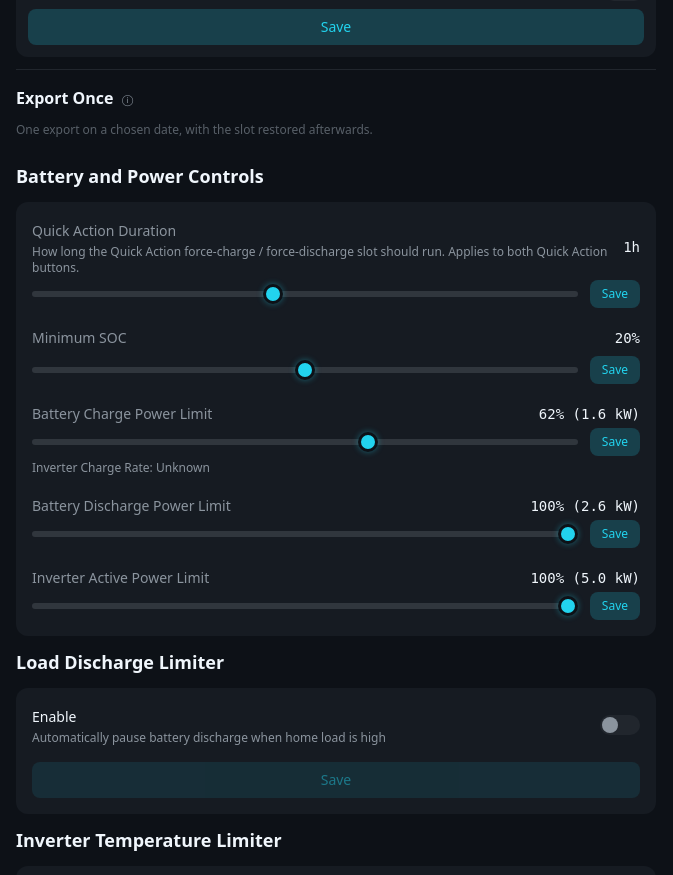
<ControlPage/> — power-limit kW readouts (issue #346) › shows what a save will really do when the slider sits between two registers
(page scrolled)
Set the slider below "Battery Charge Power Limit" to "63" at (374, 442), box [32,430,578,454]
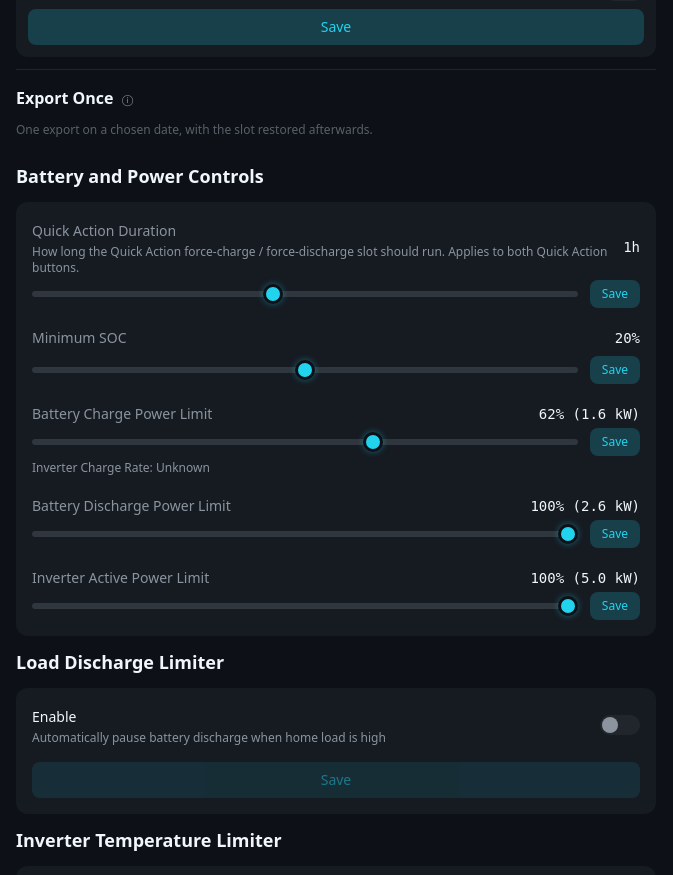
Expected: the text "62% (1.6 kW)" is shown, [539,404,640,424]
Set the slider below "Battery Charge Power Limit" to "64" at (379, 442), box [32,430,578,454]
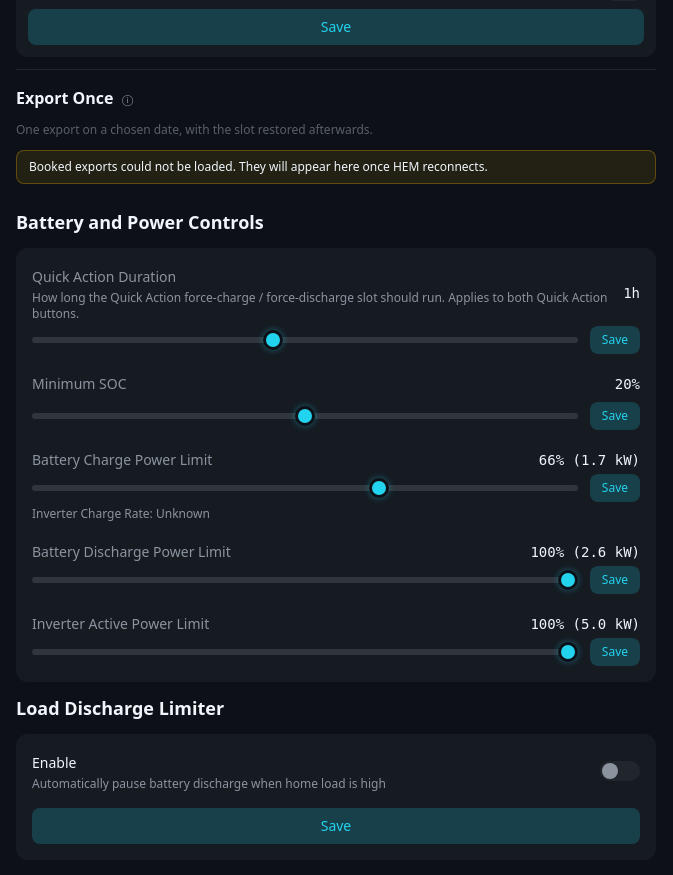
Now the text "66% (1.7 kW)" is shown, box [539,450,640,470]
